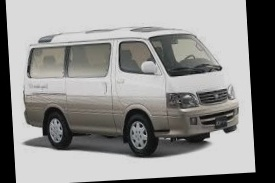van: (18, 20, 240, 148)
